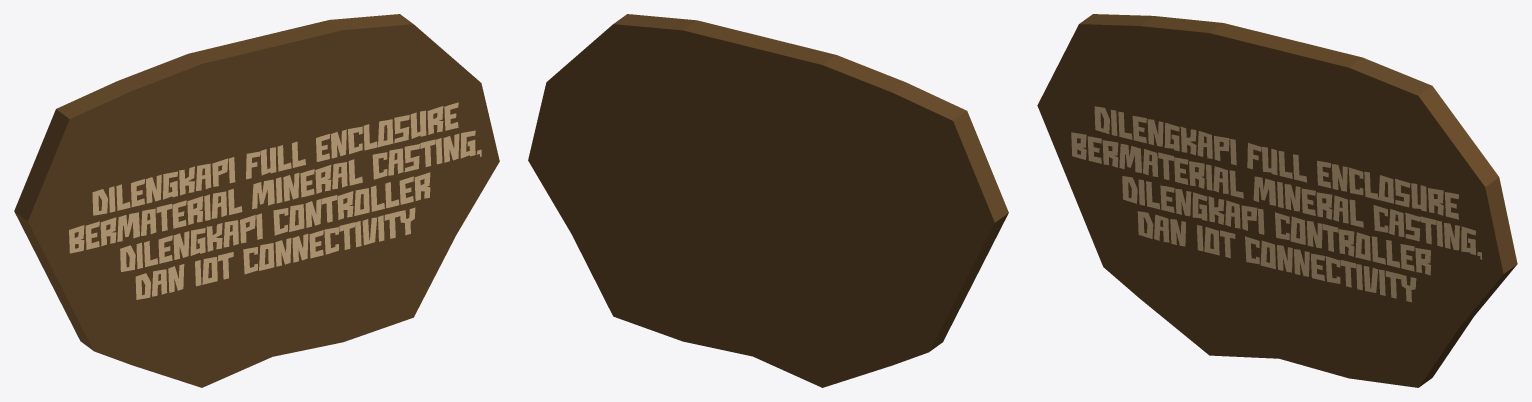
The model's file is ui_4_CNC SUPERMILL .fbx.
3 views of the same model, side by side, from view 1: azimuth 30°, elevation 25°; view 2: azimuth 150°, elevation 25°; view 3: azimuth 330°, elevation 25° (orthographic).
Visible parts, largest first — view 1: Cube.003, Text.002; view 2: Cube.003; view 3: Cube.003, Text.002.
Boxes of the visible parts, <box> form: Cube.003: <box>14,14,499,387</box>; Text.002: <box>69,102,481,299</box>; Cube.003: <box>528,14,1008,387</box>; Cube.003: <box>1037,14,1517,387</box>; Text.002: <box>1071,106,1482,302</box>.
Bounding box in the file's own units: 256 × 168 × 16.5.
